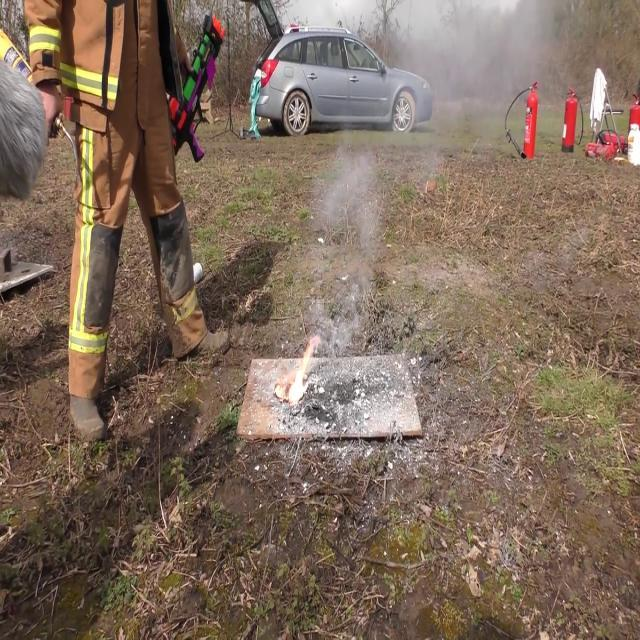Fire: (278, 339, 317, 406)
Smoke: (382, 0, 566, 175), (301, 124, 385, 378)
